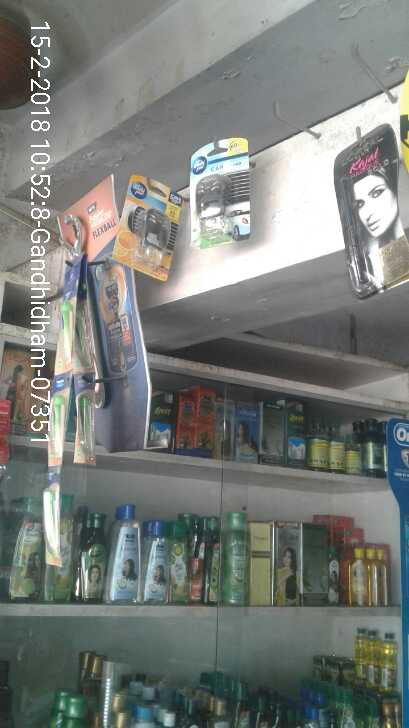ambipure: (119, 169, 177, 287), (189, 133, 252, 237)
